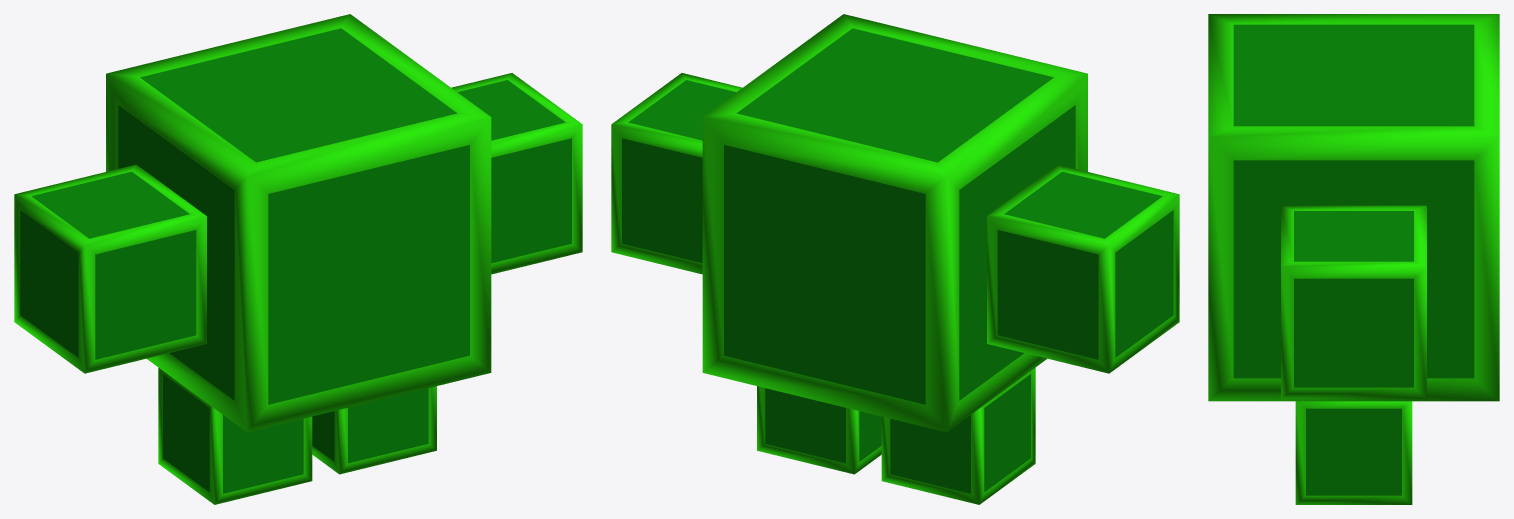
Rendered from Blocky.fbx.
3 renders of one model, left to right at view 1: azimuth 30°, elevation 25°; view 2: azimuth 150°, elevation 25°; view 3: azimuth 270°, elevation 25°, orthographic. The views are drawn at different scales.
Parts seen in each view (by area): view 1: Blocky, Blocky.004, Blocky.003, Blocky.002, Blocky.001; view 2: Blocky, Blocky.004, Blocky.003, Blocky.002, Blocky.001; view 3: Blocky, Blocky.003, Blocky.001.
Boxes of the visible parts, x1,y1,x2,y2 form: Blocky: (106, 14, 491, 432); Blocky.004: (14, 164, 206, 373); Blocky.003: (451, 73, 582, 274); Blocky.002: (158, 367, 312, 504); Blocky.001: (312, 386, 436, 474); Blocky: (702, 14, 1087, 432); Blocky.004: (987, 164, 1179, 373); Blocky.003: (611, 73, 742, 274); Blocky.002: (881, 367, 1035, 504); Blocky.001: (757, 386, 881, 474); Blocky: (1208, 14, 1499, 401); Blocky.003: (1281, 205, 1426, 399); Blocky.001: (1295, 401, 1412, 504).
Bounding box in the file's own units: 408 × 283 × 200.
